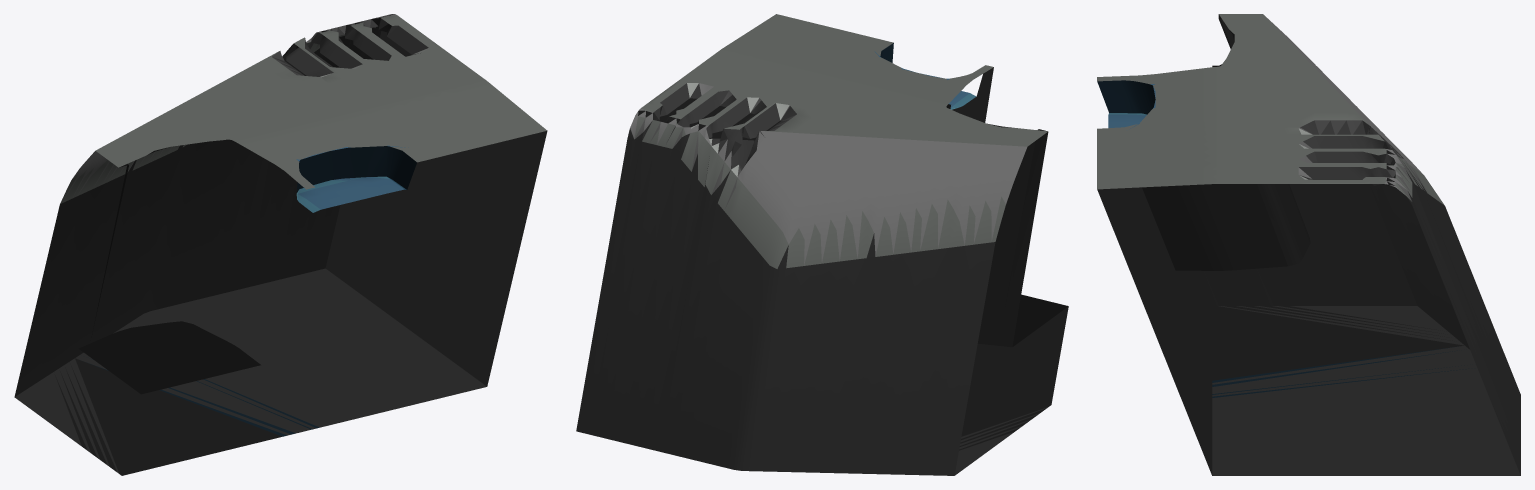
The model's file is fleet_walker_7.glb.
3 views of the same model, side by side, from view 1: azimuth 30°, elevation 25°; view 2: azimuth 150°, elevation 25°; view 3: azimuth 270°, elevation 25° (orthographic). The views are drawn at different scales.
Parts seen in each view (by area): view 1: fleet_walker_7; view 2: fleet_walker_7; view 3: fleet_walker_7.
Part boxes in pixels (<box>): fleet_walker_7: <box>14,14,547,475</box>; fleet_walker_7: <box>576,14,1068,475</box>; fleet_walker_7: <box>1097,14,1520,475</box>.
Bounding box in the file's own units: 24 × 19.2 × 25.26.
